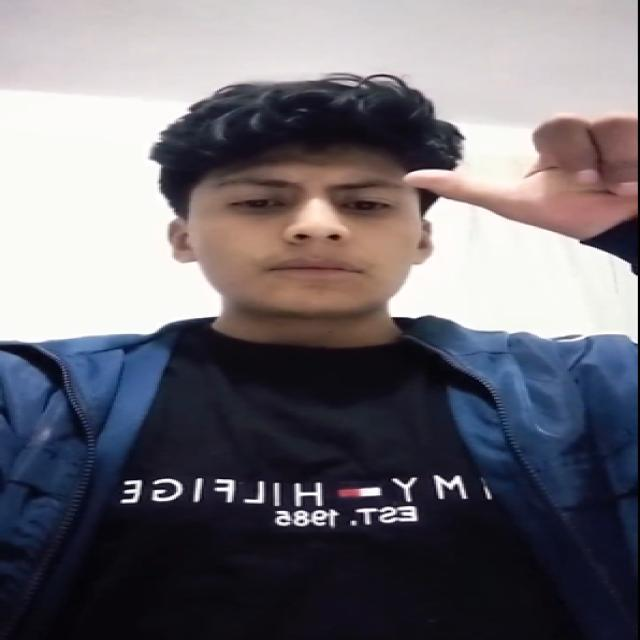A: (389, 93, 640, 259)
